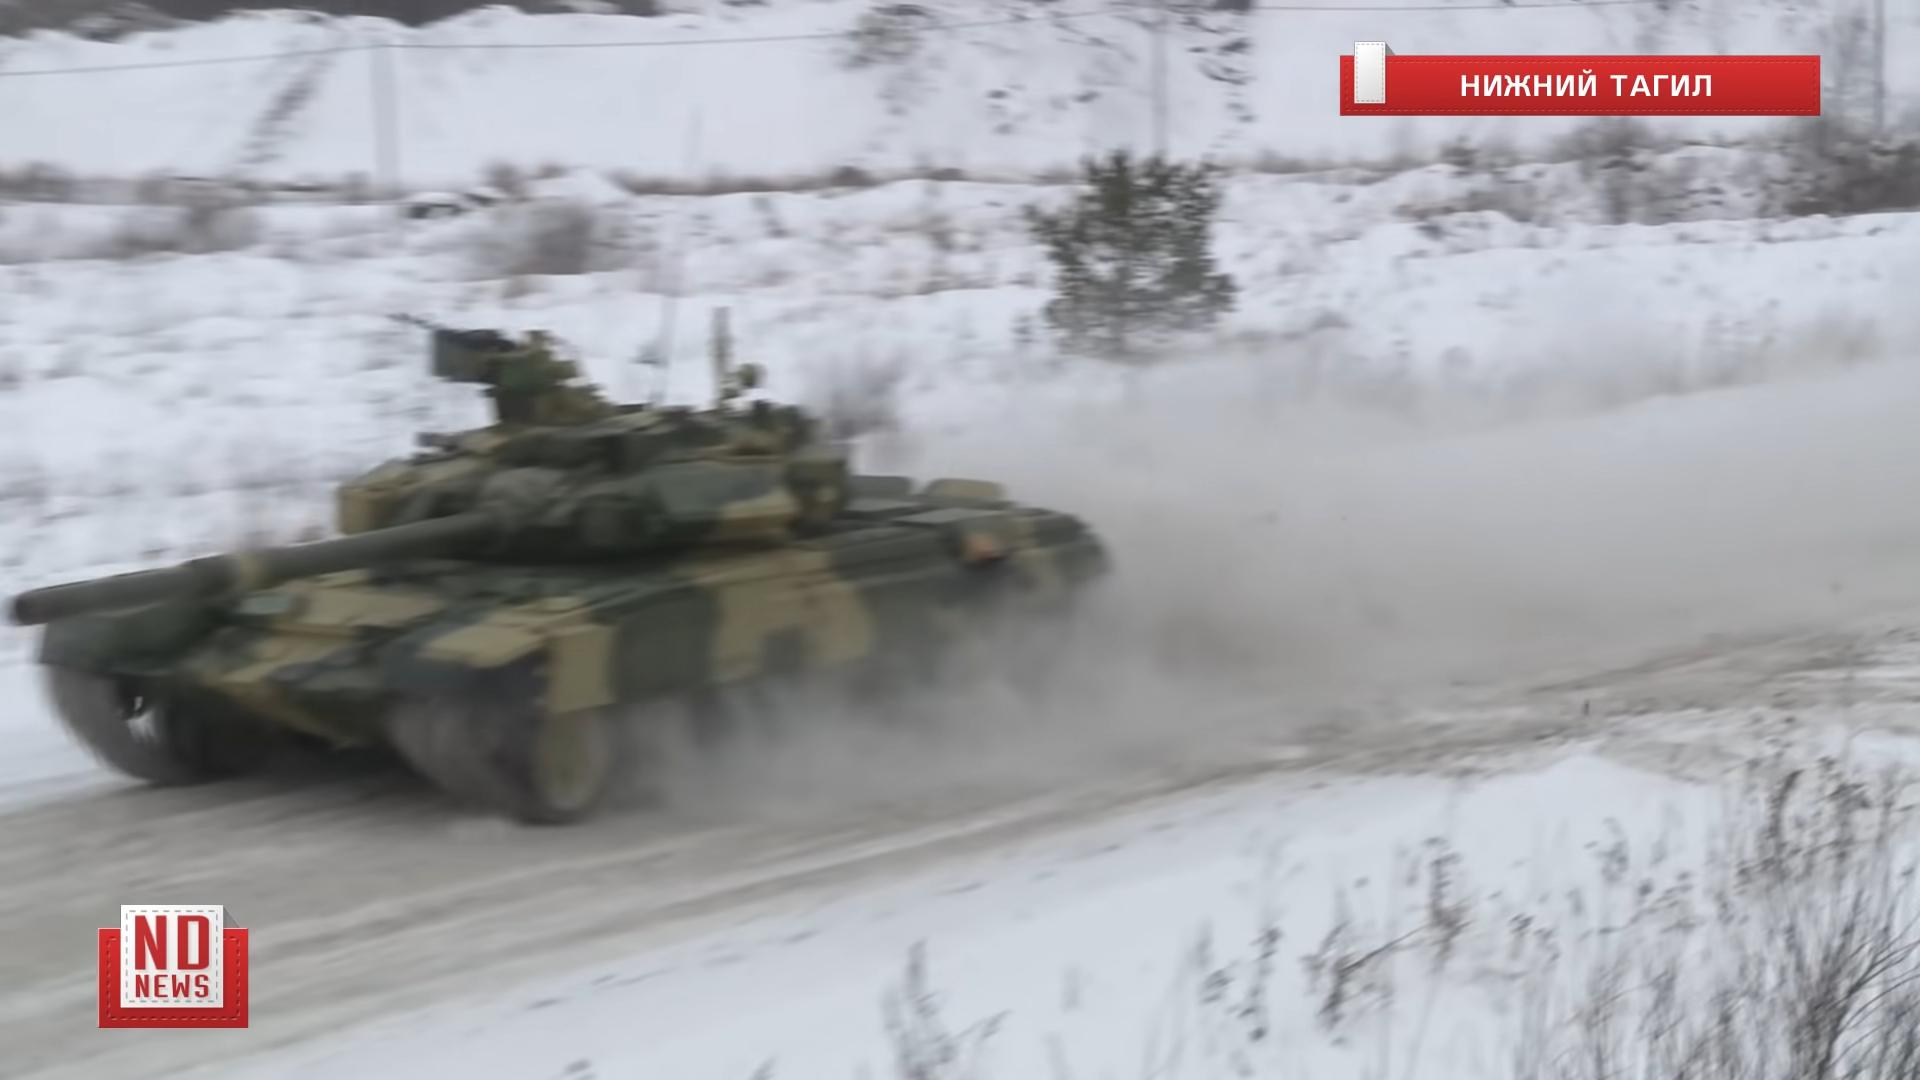tank: (13, 328, 1117, 818)
